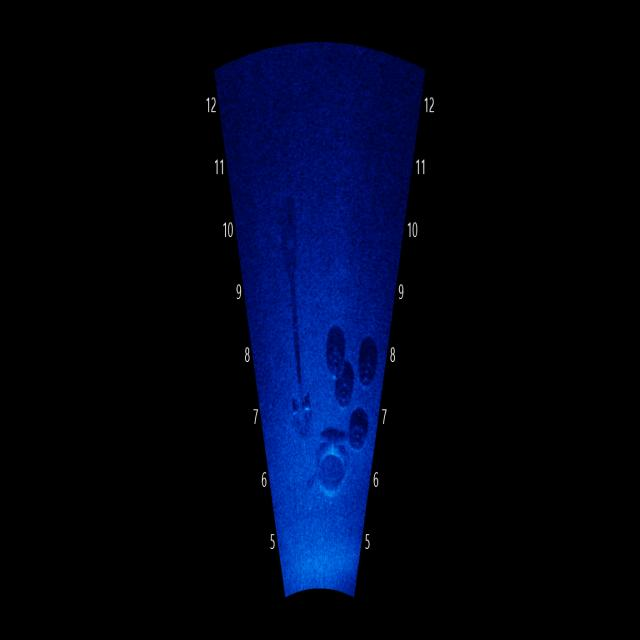circle: (306, 426, 354, 510), (323, 347, 364, 404), (354, 331, 384, 394), (346, 404, 377, 462), (322, 316, 349, 375)
